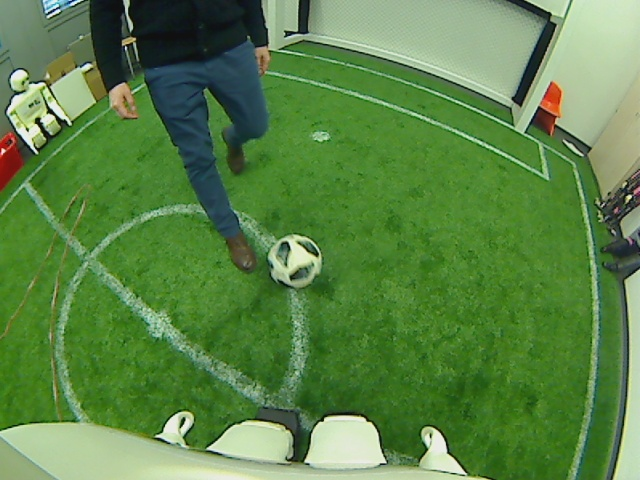ball: (266, 230, 322, 290)
